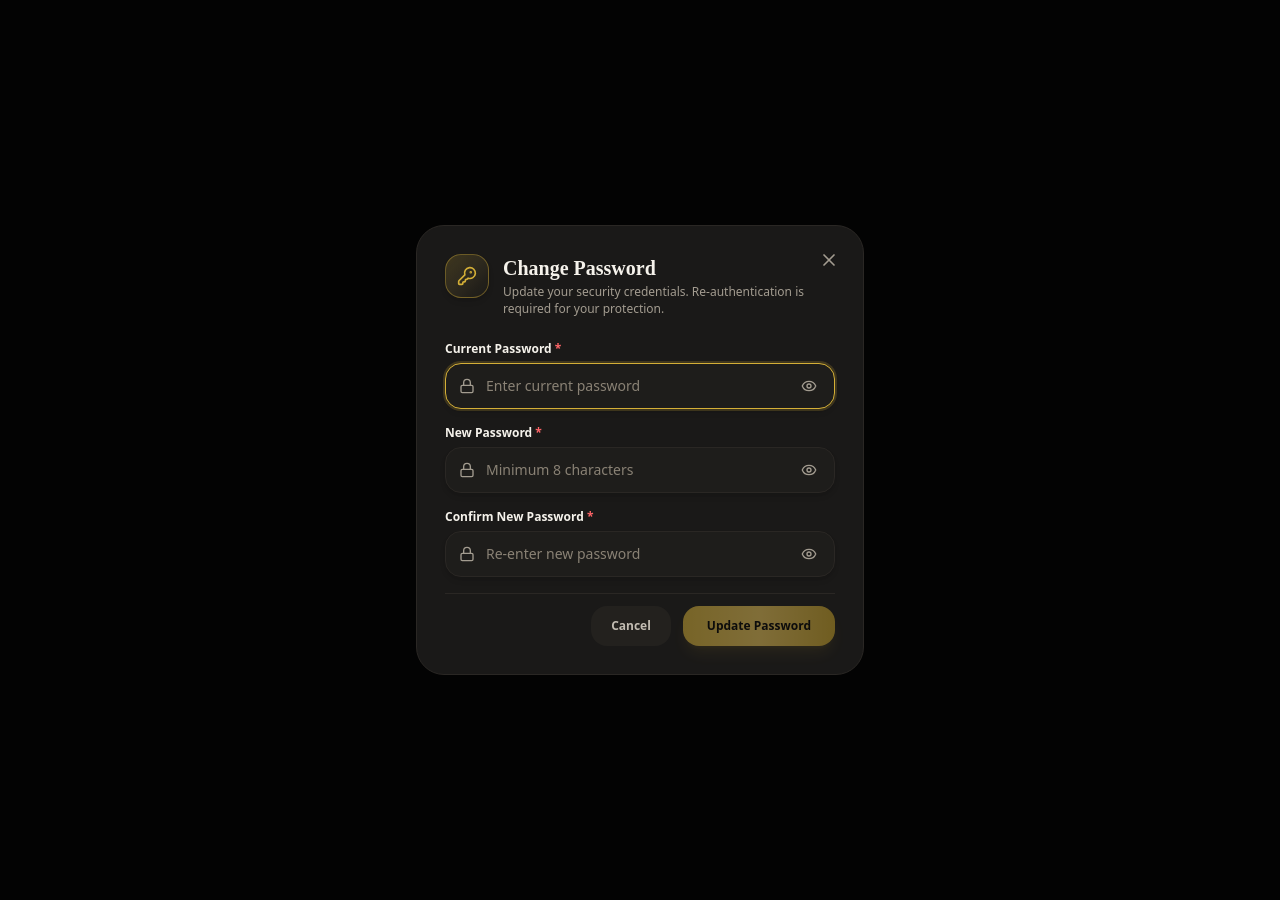
Test case: ChangePasswordModal › shows error if new password is too short
Type "short" into the password field with placeholder "Minimum 8 characters". click: (640, 470)
box: [445, 447, 835, 493]
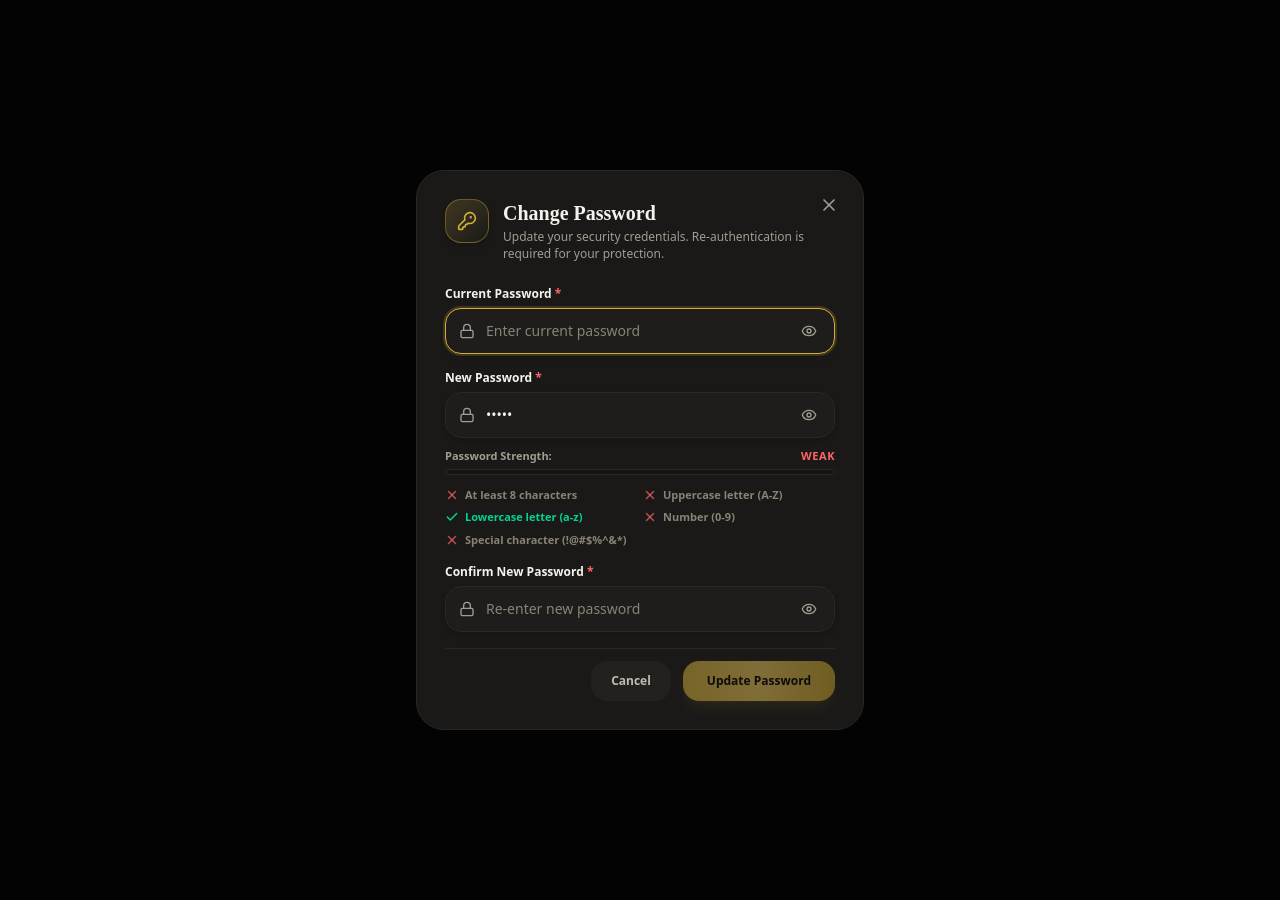
Leave the password field with placeholder "Minimum 8 characters", box [445, 392, 835, 438]
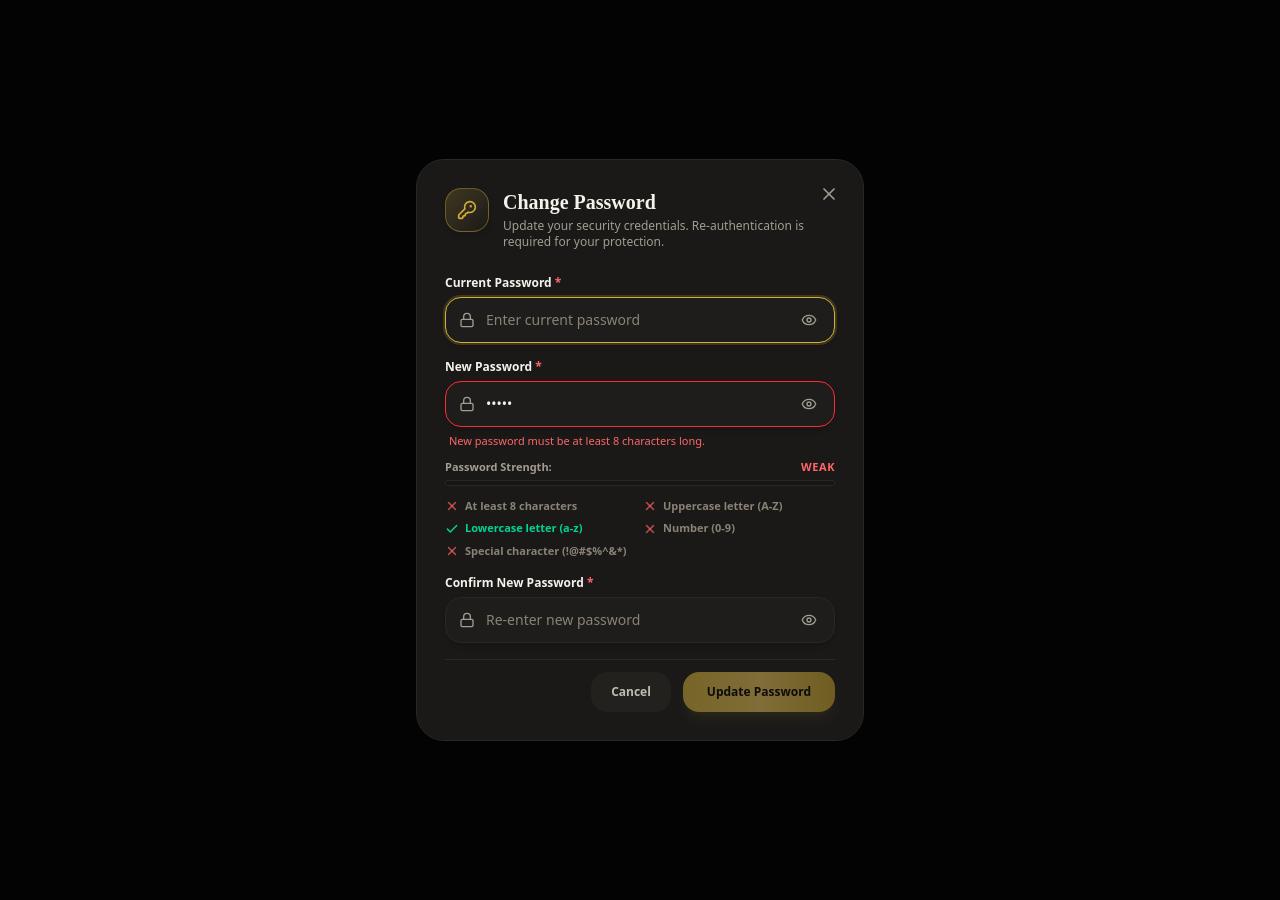
Result: the text "New password must be at least 8 characters long." is shown at [449, 433, 705, 448]
